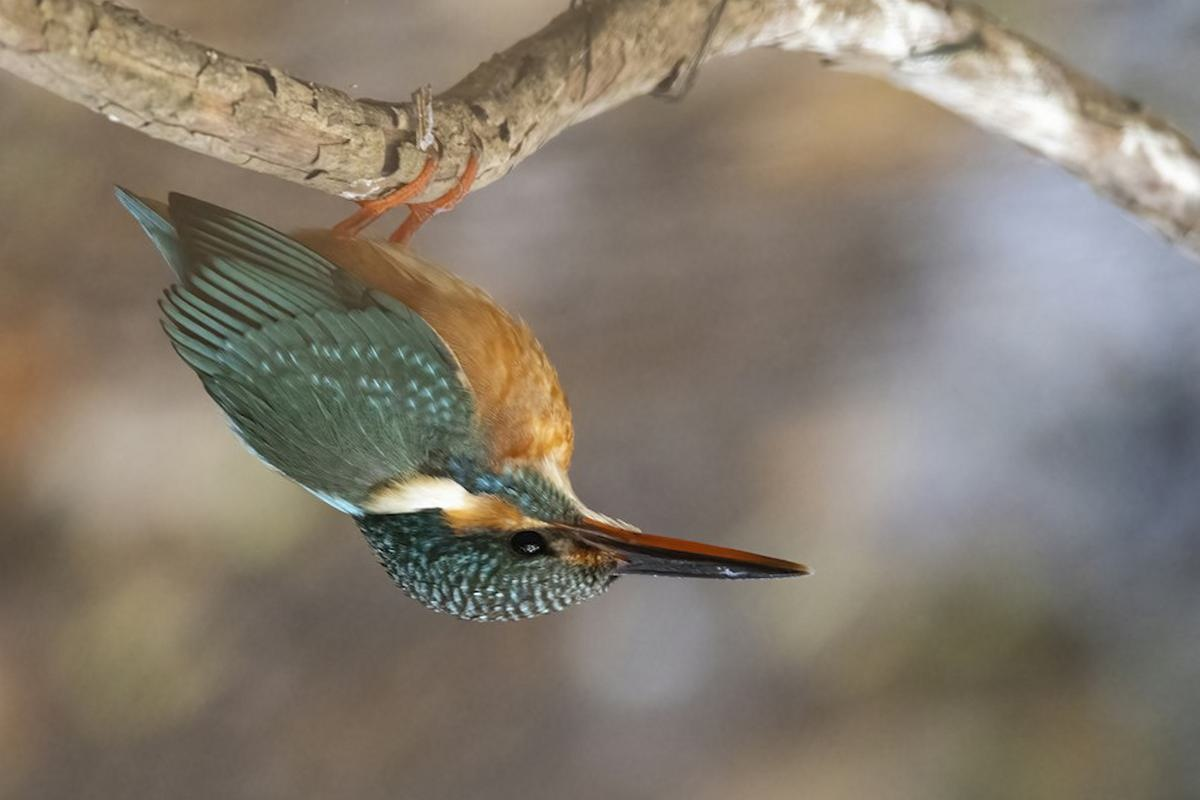kingfisher: (122, 152, 828, 642)
